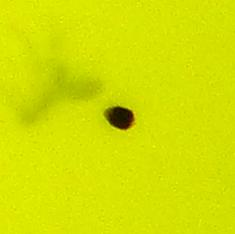Coleoptera: (100, 100, 135, 134)
